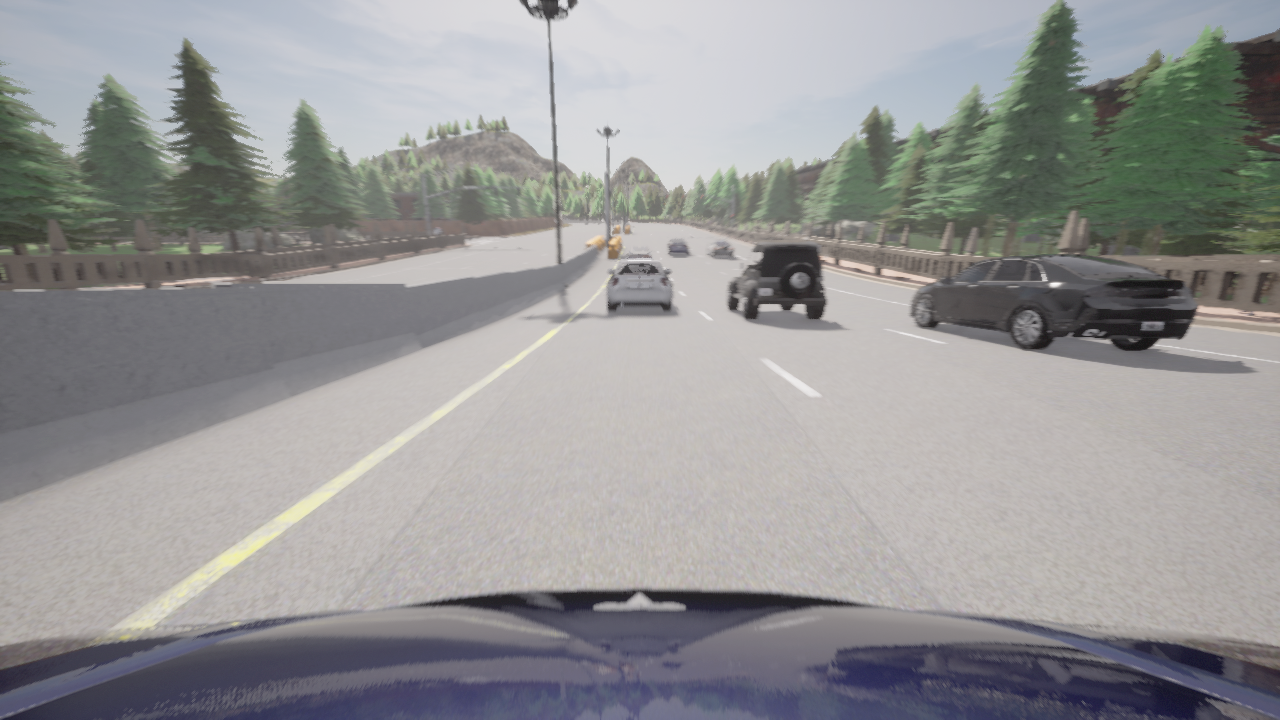cyclist: (0, 588, 1279, 719), (911, 254, 1197, 349), (726, 242, 828, 319), (607, 259, 672, 311), (706, 239, 734, 257), (666, 238, 688, 254), (625, 246, 654, 258)
pedestrian: (1234, 281, 1268, 315)
